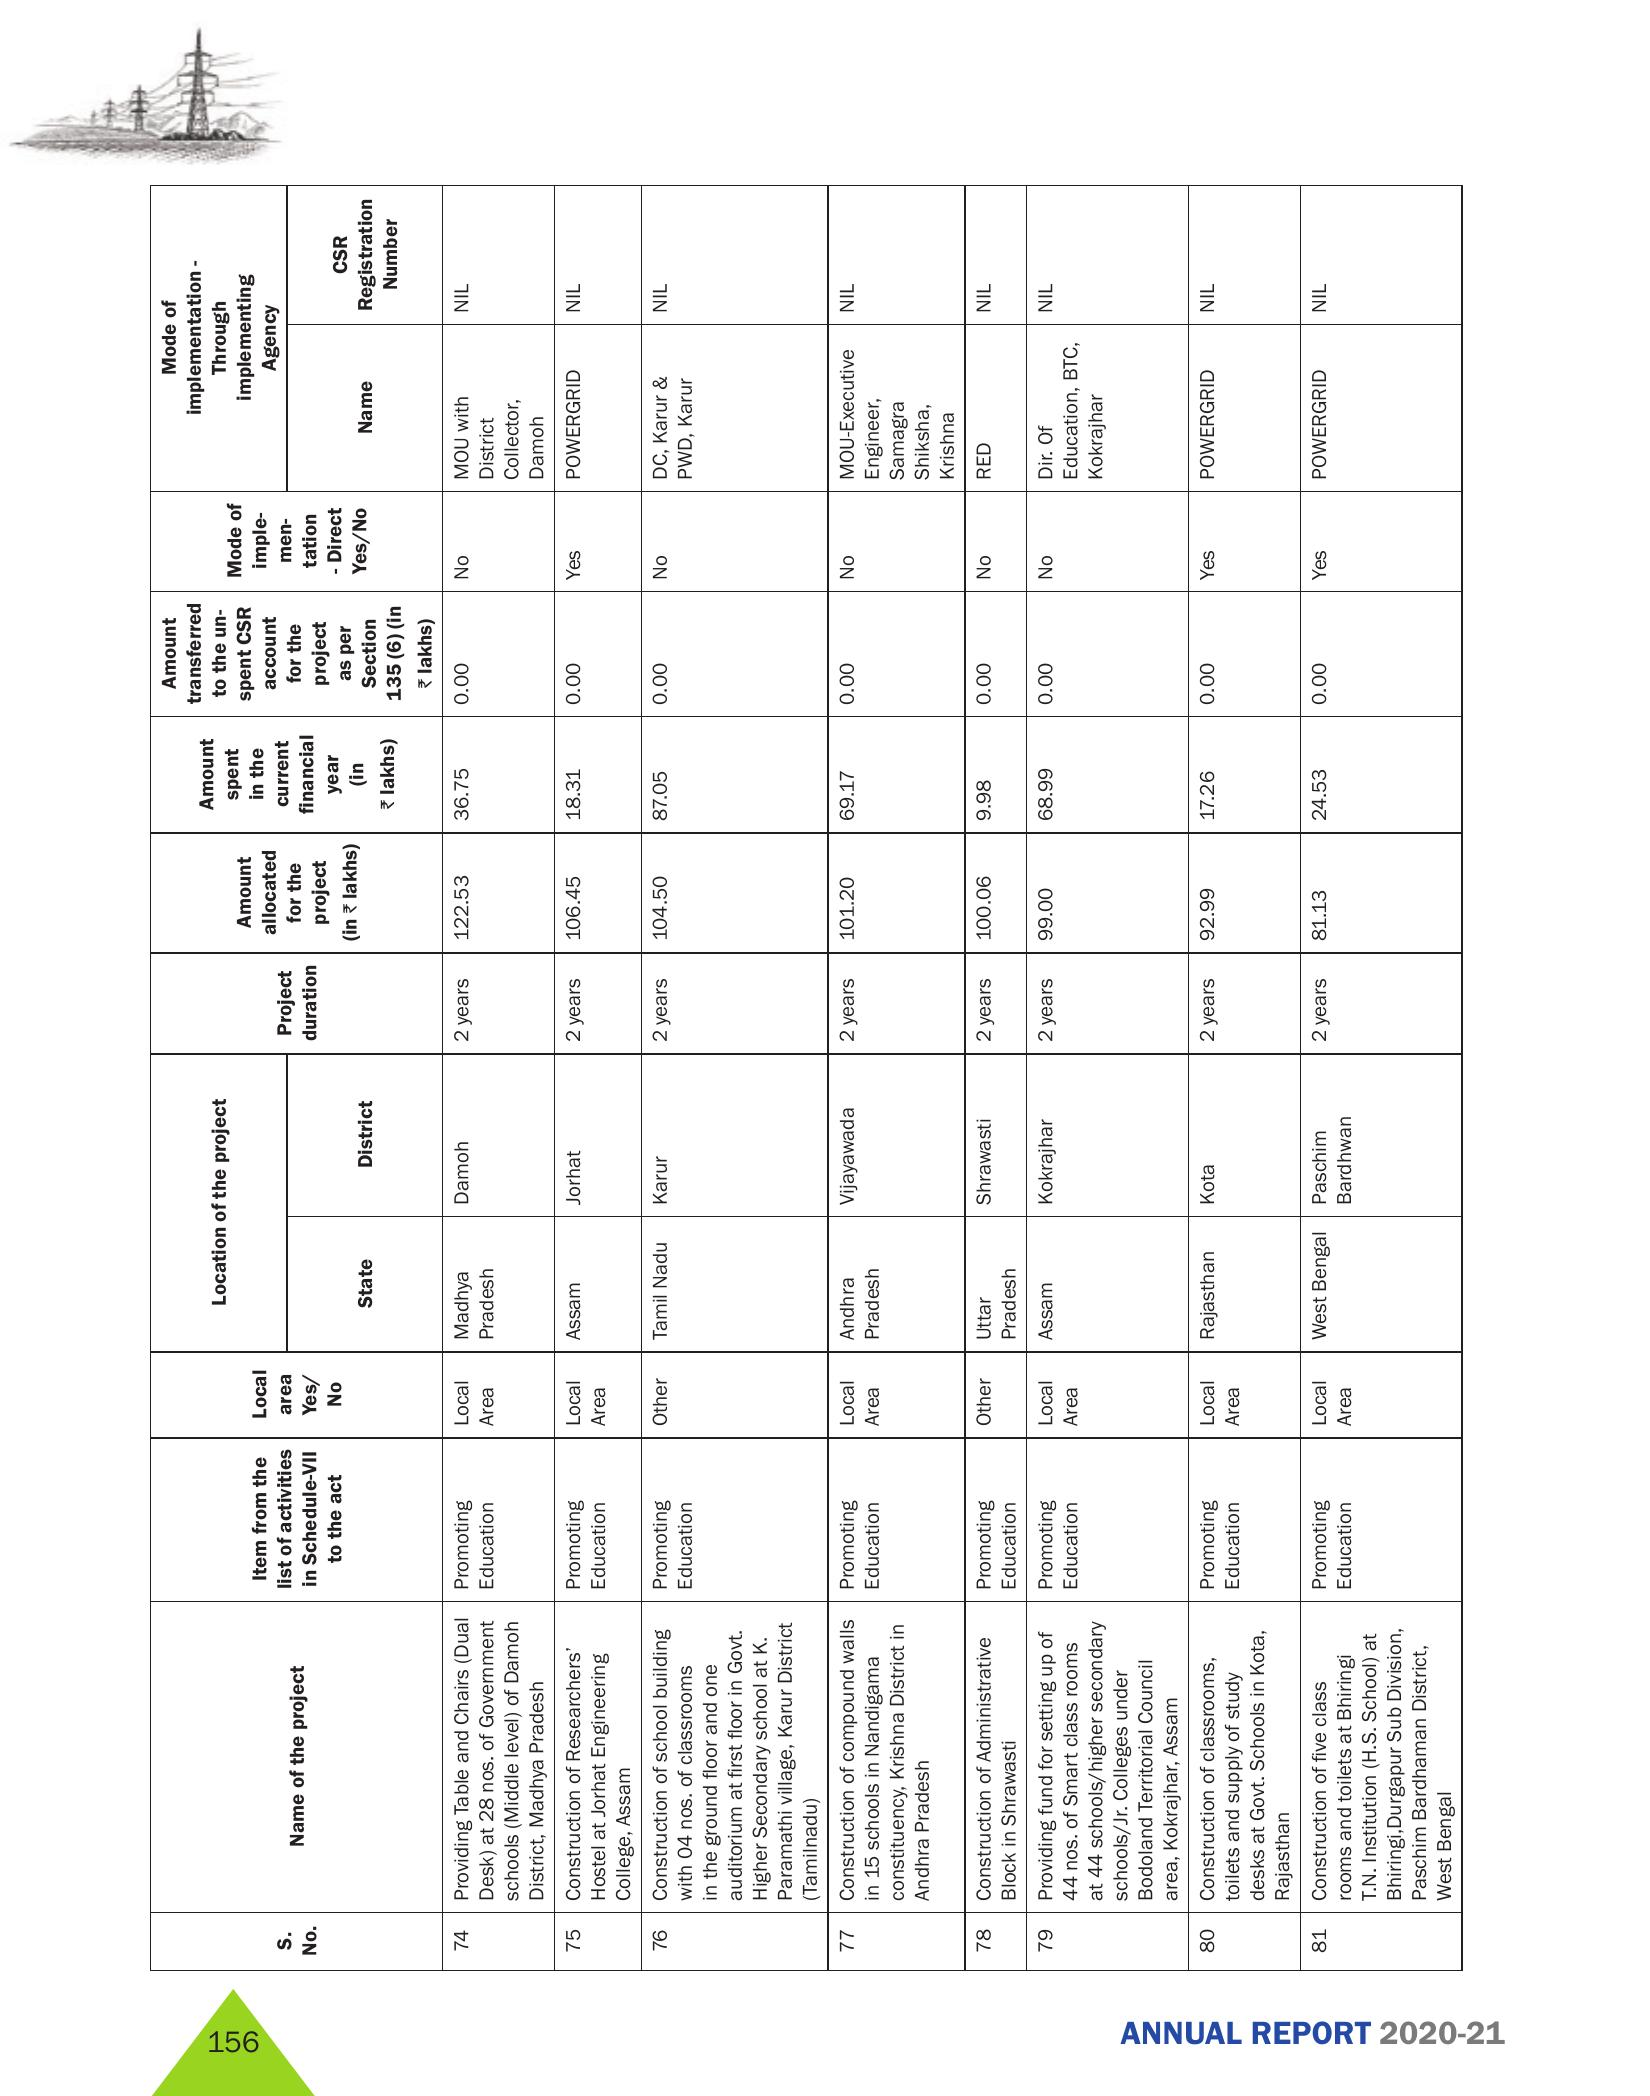Footer: (0, 1979, 1650, 2096)
Header: (0, 0, 1650, 175)
Table: (117, 184, 1499, 1979)
